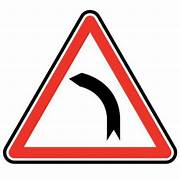left: (4, 10, 176, 164)
